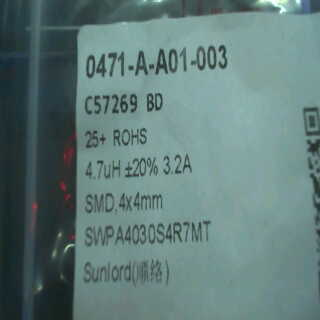4.7uH: (85, 156, 124, 183)
